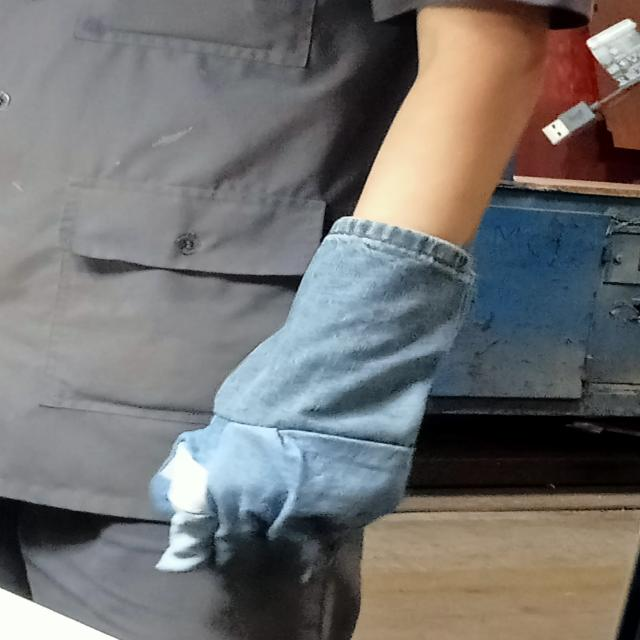Gloves-Detection: (178, 221, 494, 572)
